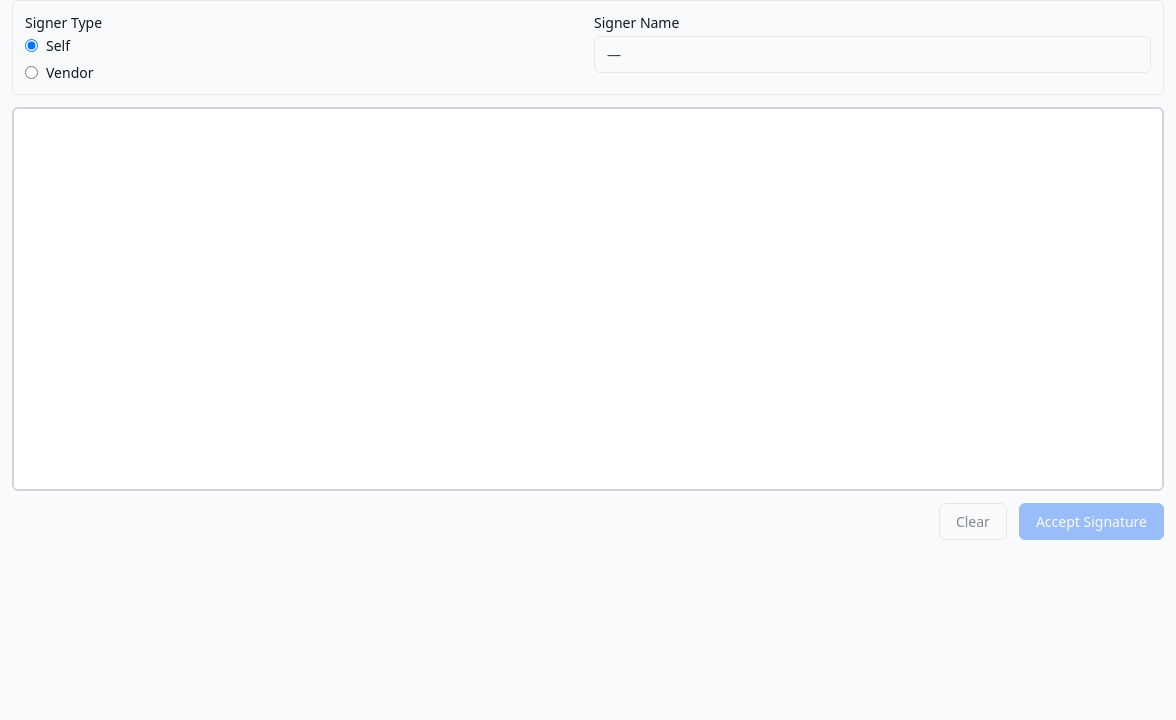
Test: SignatureCapture › drawing interaction › enables the Accept and Clear buttons after a mouse stroke is drawn
Press the mouse on the drawing named "Signature canvas" at (588, 299), box [14, 109, 1162, 489]
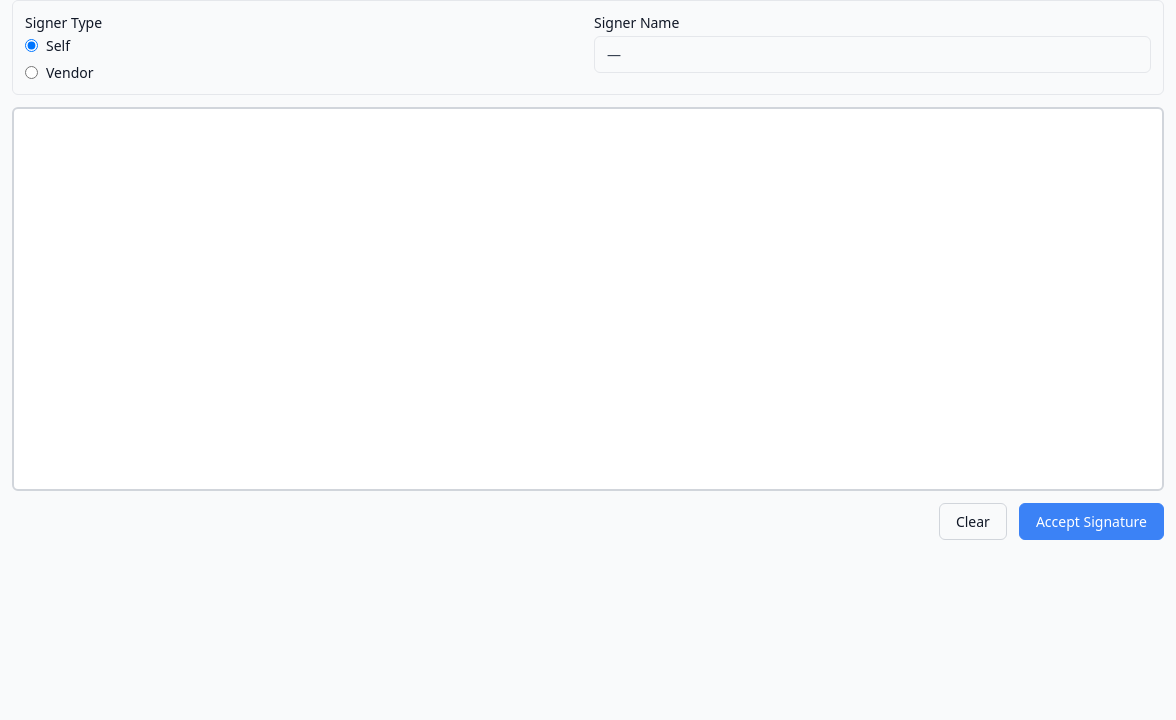
Expected: the button "Accept Signature" is enabled, [1019, 503, 1164, 540]
Expected: the button "Clear" is enabled, [939, 503, 1007, 540]
